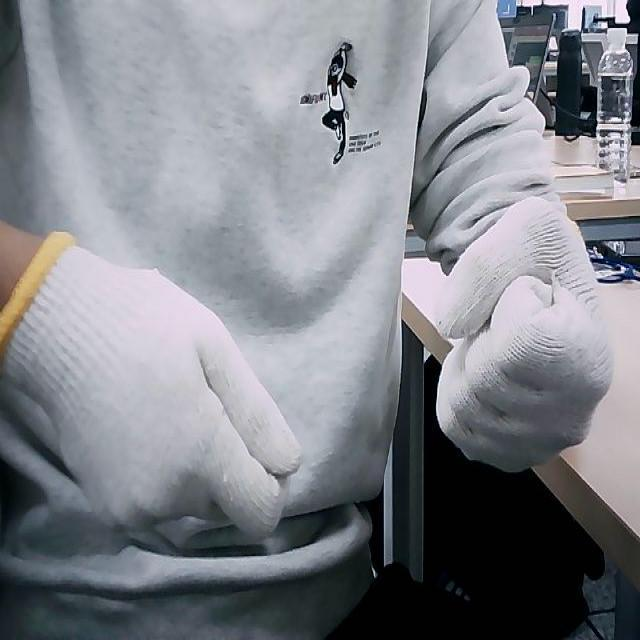gloves: (2, 230, 305, 538), (434, 194, 614, 468)
